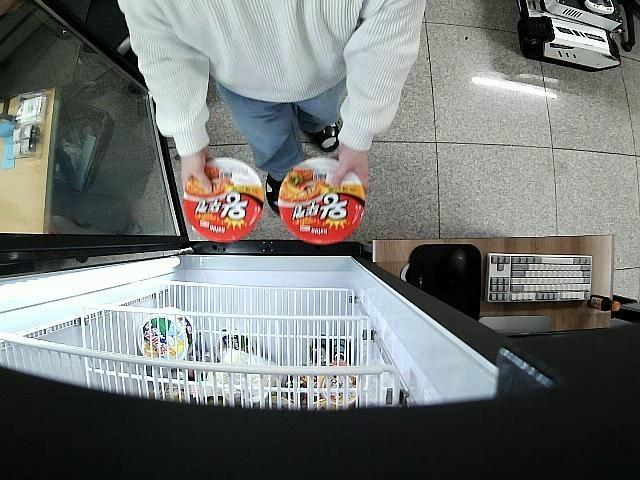10_wangTtukkeong: (280, 157, 364, 246), (181, 157, 265, 240)
